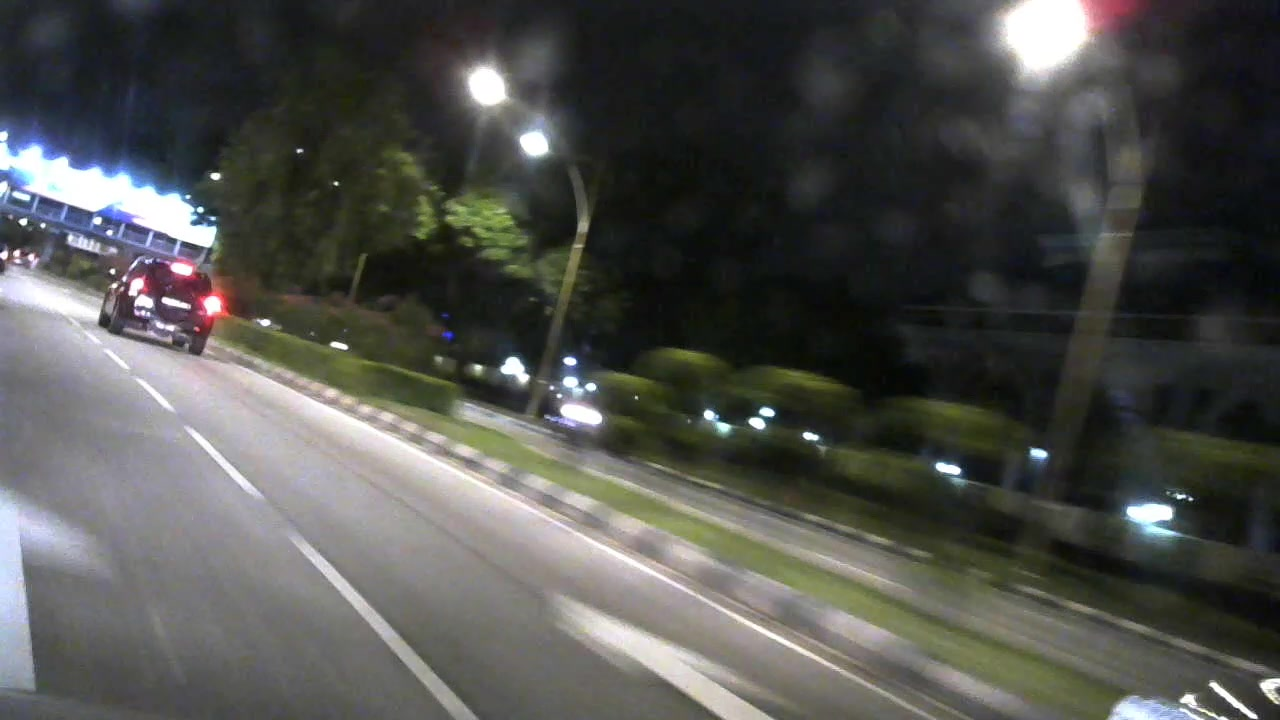Car: (96, 248, 220, 352)
